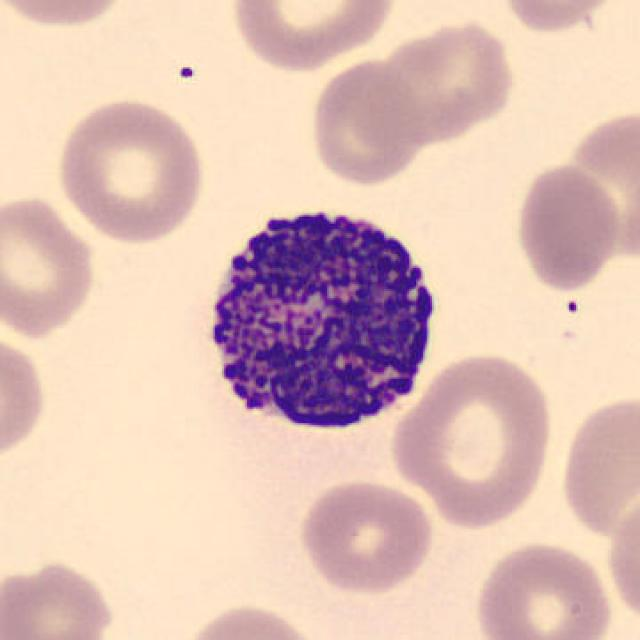Basophil: (188, 190, 454, 446)
RBC: (386, 348, 558, 532), (52, 94, 210, 245), (363, 14, 519, 145), (295, 476, 437, 596), (306, 54, 423, 188), (512, 158, 626, 292), (0, 190, 100, 342), (469, 537, 616, 640), (226, 0, 400, 74), (556, 388, 638, 543), (562, 103, 640, 264), (0, 555, 119, 640), (0, 326, 50, 471), (180, 599, 326, 640), (602, 486, 640, 627), (494, 0, 631, 35), (0, 0, 135, 32)
